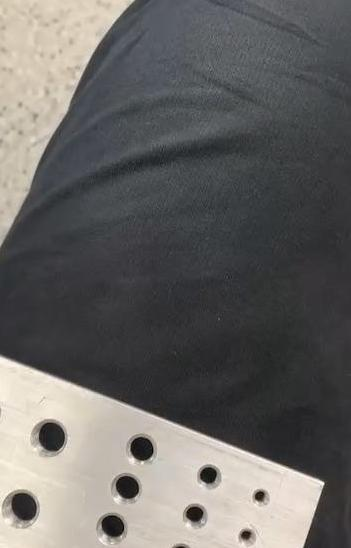hole: (0, 490, 42, 530), (30, 419, 68, 457), (94, 512, 130, 547), (124, 431, 158, 466), (109, 472, 142, 506), (180, 502, 211, 532), (195, 462, 224, 492), (236, 525, 257, 548), (250, 486, 271, 508), (166, 540, 196, 548)
